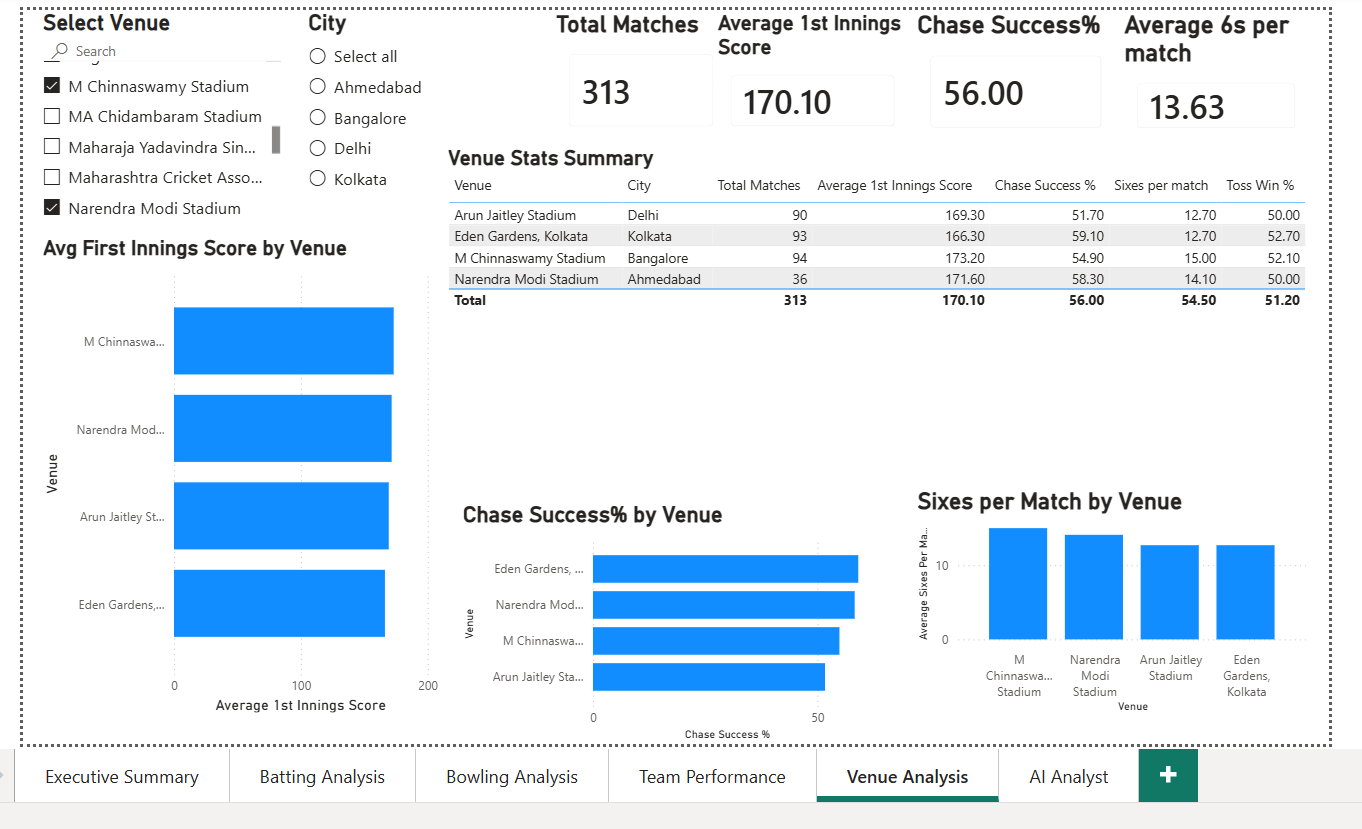

Layout of this report page (visuals, bound fields, positions):
{"tool":"powerbi","page":{"name":"Venue Analysis","canvas":[1280,720],"ordinal":4},"visuals":[{"type":"listSlicer","title":"Select Venue","fields":{"Values":["mart_venue_stats.venue"]},"box":[14.6,0,242.9,220.2],"z":0},{"type":"listSlicer","title":"City","fields":{"Values":["mart_venue_stats.city"]},"box":[275.3,0,242.9,220.2],"z":1},{"type":"cardVisual","title":"Total Matches","fields":{"Data":["Sum(mart_venue_stats.total_matches)"]},"box":[518.2,0,176.5,131.2],"z":2},{"type":"cardVisual","title":"Average 1st Innings Score","fields":{"Data":["Avg(mart_venue_stats.avg_first_innings_score)"]},"box":[676.8,0,195.9,131.2],"z":3},{"type":"cardVisual","title":"Chase Success%","fields":{"Data":["Avg(mart_venue_stats.chase_success_pct)"]},"box":[872.8,0,202.4,132.8],"z":4},{"type":"cardVisual","title":"Average 6s per match","fields":{"Data":["Avg(mart_venue_stats.avg_sixes_per_match)"]},"box":[1075.2,0,189.4,132.8],"z":5},{"type":"clusteredBarChart","title":"Avg First Innings Score by Venue","fields":{"Category":["mart_venue_stats.venue"],"Y":["Avg(mart_venue_stats.avg_first_innings_score)"]},"box":[14.6,220.2,396.7,472.8],"z":6},{"type":"barChart","title":"Chase Success% by Venue","fields":{"Category":["mart_venue_stats.venue"],"Y":["Avg(mart_venue_stats.chase_success_pct)"]},"box":[425.9,482.5,408,238],"z":7},{"type":"clusteredColumnChart","title":"Sixes per Match by Venue","fields":{"Category":["mart_venue_stats.venue"],"Y":["Avg(mart_venue_stats.avg_sixes_per_match)"]},"box":[872.8,468,391.9,225.1],"z":8},{"type":"tableEx","title":"Venue Stats Summary","fields":{"Values":["mart_venue_stats.venue","mart_venue_stats.city","Sum(mart_venue_stats.total_matches)","Avg(mart_venue_stats.avg_first_innings_score)","Avg(mart_venue_stats.chase_success_pct)","Sum(mart_venue_stats.avg_sixes_per_match)","Avg(mart_venue_stats.toss_win_match_win_pct)"]},"box":[411.3,132.8,853.3,335.2],"z":9}]}

Visuals, with their boxes on the page's 1280x720 design canvas (x1, y1, x2, y2). These are canvas units, not pixel positions in the 1362x829 screenshot, which may show the page scaled, cropped or inside an application window:
"Select Venue" listSlicer: [left=15, top=0, right=258, bottom=220]
"City" listSlicer: [left=275, top=0, right=518, bottom=220]
"Total Matches" cardVisual: [left=518, top=0, right=695, bottom=131]
"Average 1st Innings Score" cardVisual: [left=677, top=0, right=873, bottom=131]
"Chase Success%" cardVisual: [left=873, top=0, right=1075, bottom=133]
"Average 6s per match" cardVisual: [left=1075, top=0, right=1265, bottom=133]
"Avg First Innings Score by Venue" clusteredBarChart: [left=15, top=220, right=411, bottom=693]
"Chase Success% by Venue" barChart: [left=426, top=482, right=834, bottom=720]
"Sixes per Match by Venue" clusteredColumnChart: [left=873, top=468, right=1265, bottom=693]
"Venue Stats Summary" tableEx: [left=411, top=133, right=1265, bottom=468]
